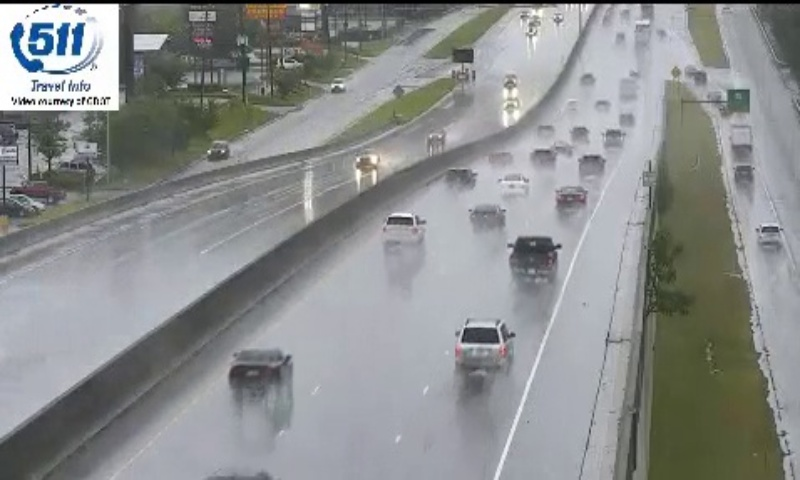car: (455, 320, 512, 371), (229, 348, 291, 386), (508, 236, 557, 281), (381, 211, 423, 243), (555, 185, 587, 210)
